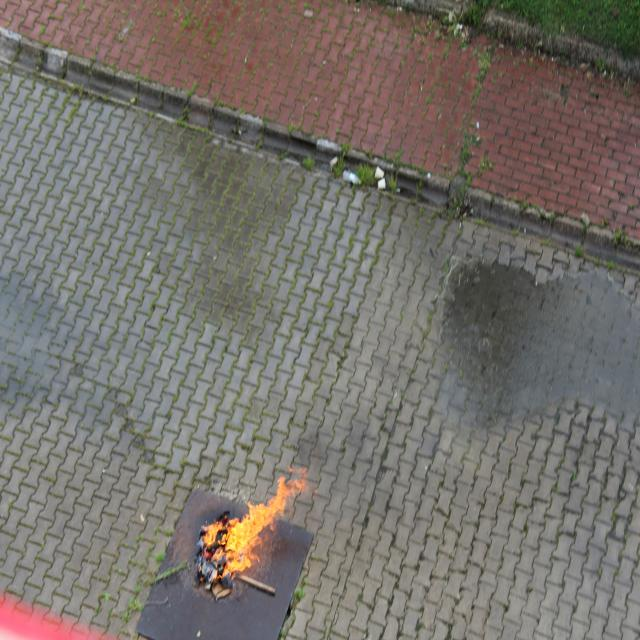fire: (202, 471, 314, 566)
